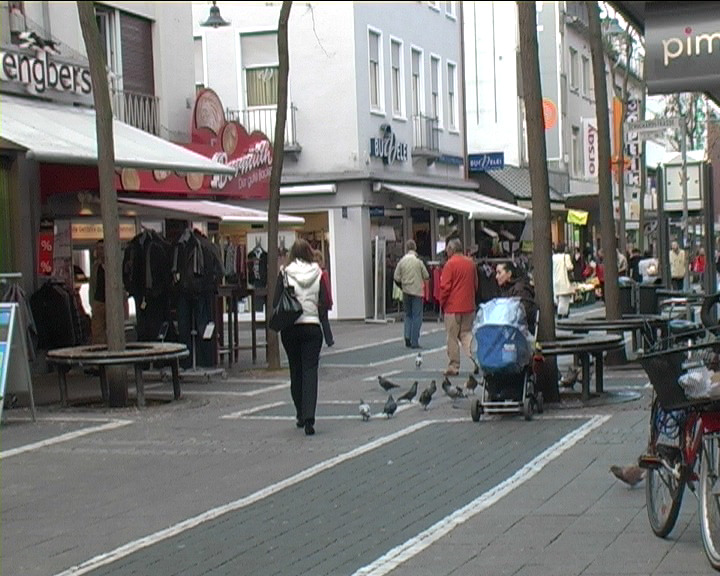undeflect: (256, 236, 333, 287)
